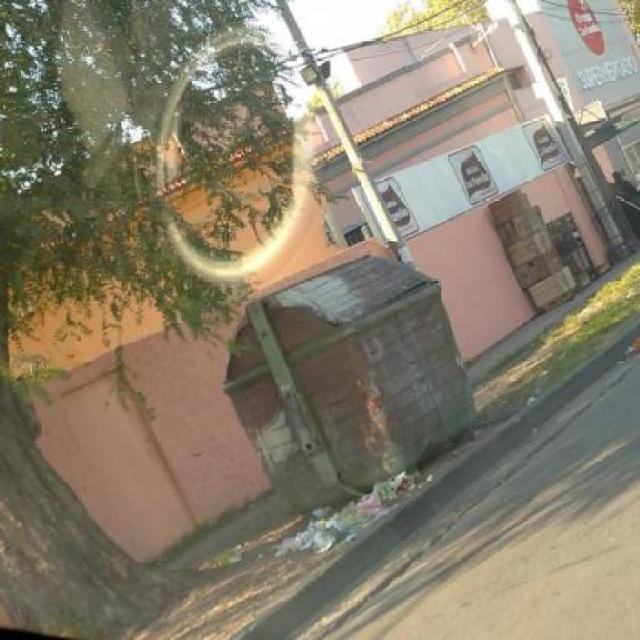garbage: (286, 477, 393, 560), (519, 362, 550, 419), (191, 548, 246, 572), (619, 332, 639, 366), (625, 285, 640, 310)
